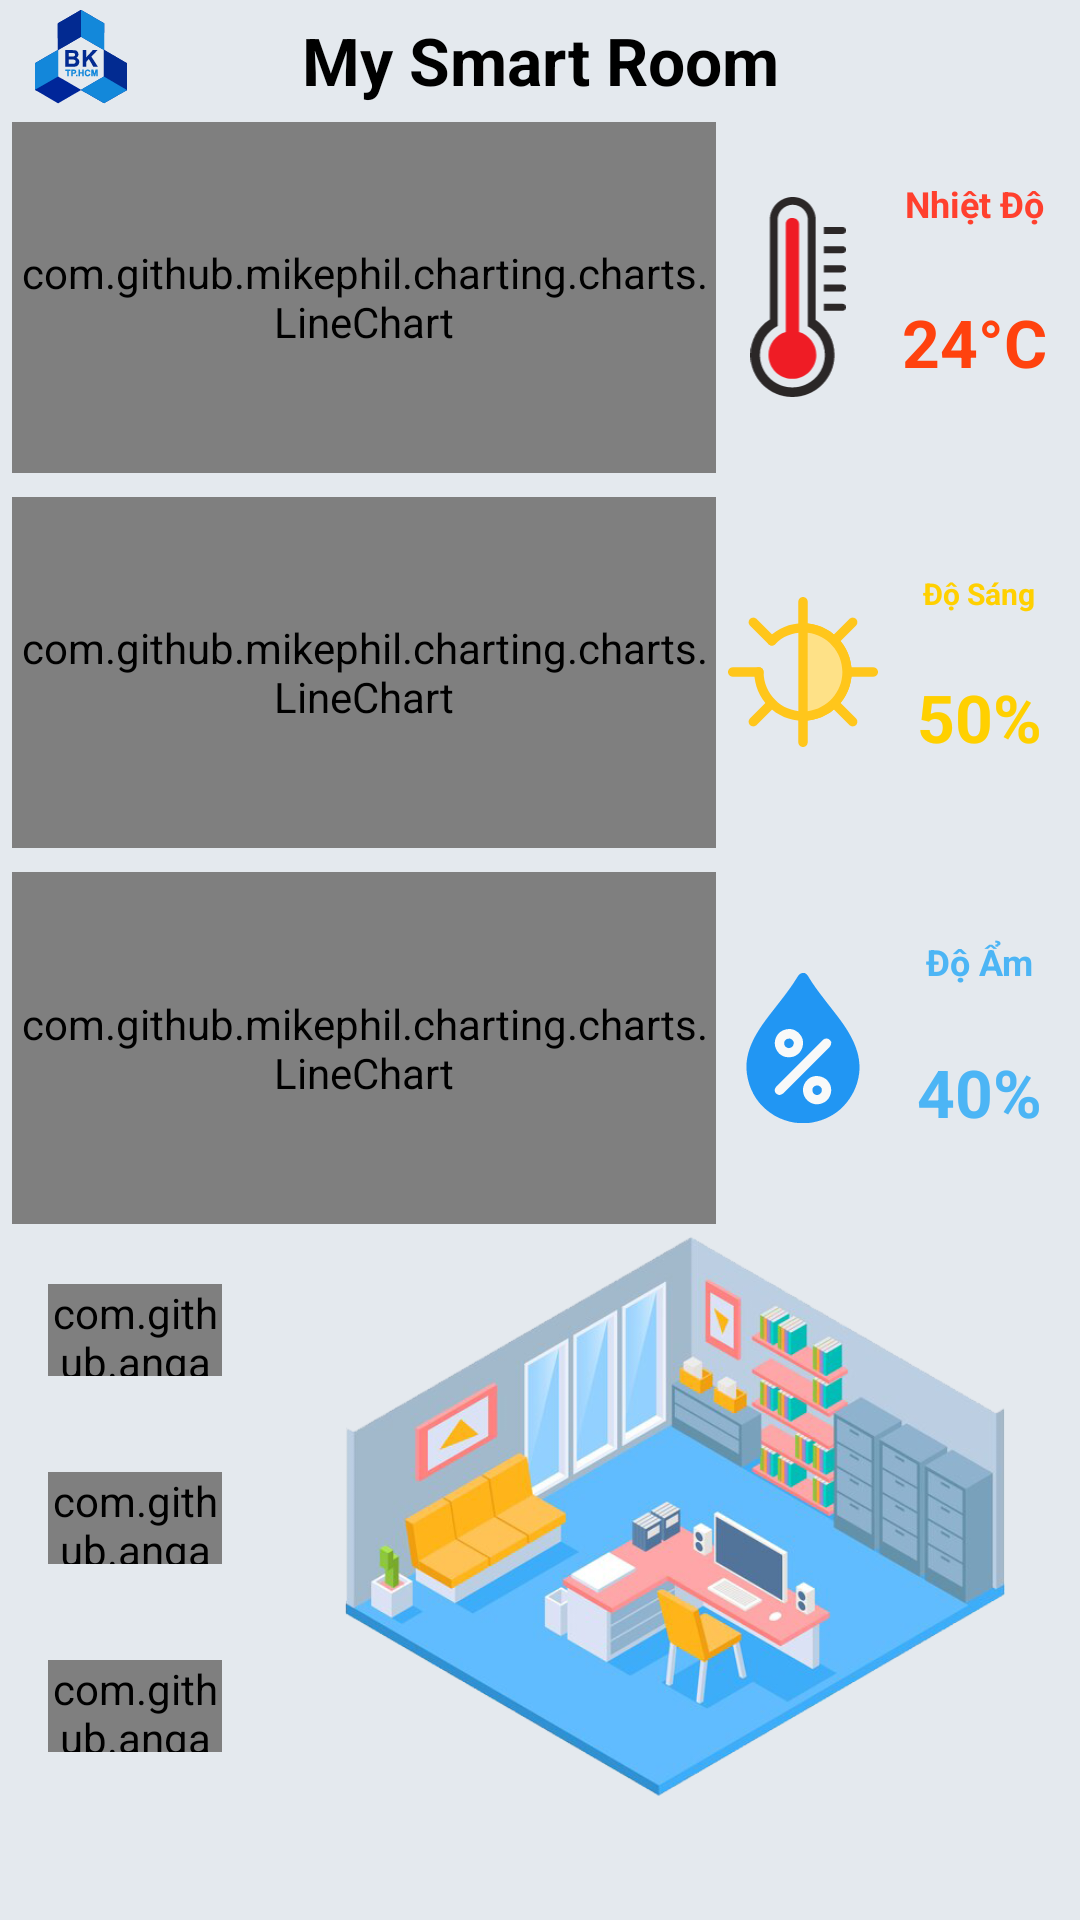

Icon bounding boxes for this 1080 × 1920 phone screenshot, format (x1, y1, x2, y2):
brightness: (728, 597, 878, 747)
humidity: (746, 973, 860, 1123)
